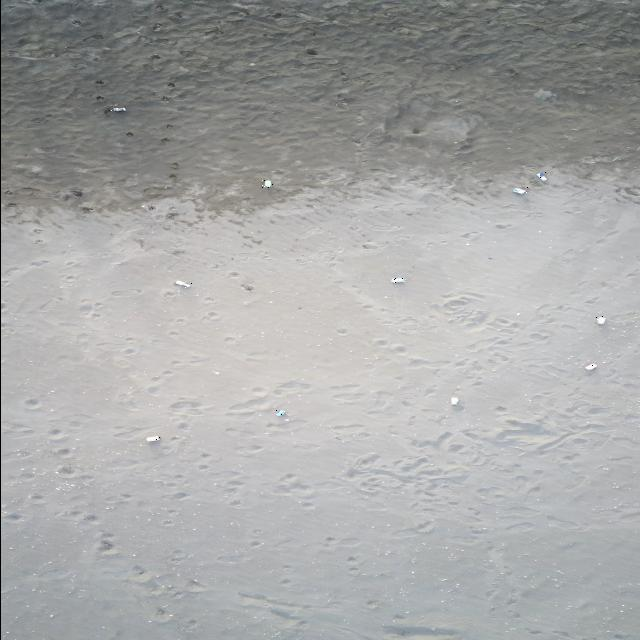Garbage: (533, 88, 555, 100), (512, 186, 527, 195), (104, 105, 125, 111), (175, 280, 191, 287), (535, 171, 547, 180), (145, 435, 160, 442), (449, 395, 459, 404), (392, 276, 404, 283), (595, 315, 604, 324), (276, 408, 286, 415), (261, 180, 271, 187), (584, 364, 596, 369), (306, 48, 316, 54)
